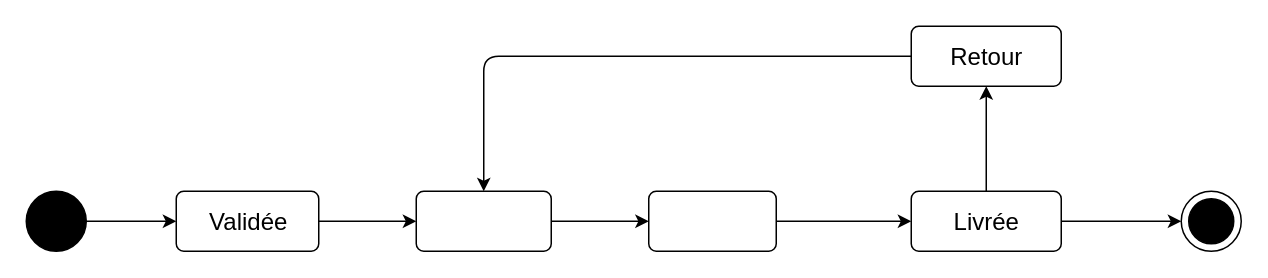
This 1268x278 diagram has some shape labels left out. The box of each missing label's shape, as (x1, y1, x2, y2) in pixels:
En cours: (415, 190, 551, 251)
Prête: (647, 190, 776, 251)
